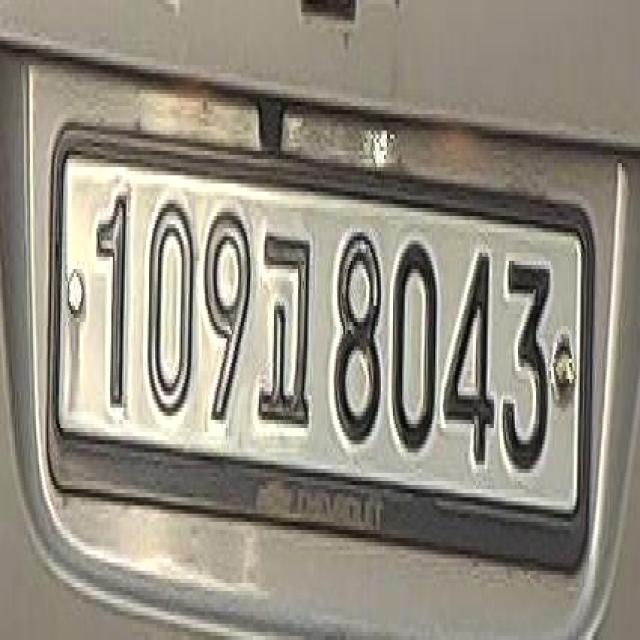illegal_plate: (48, 148, 604, 579)
